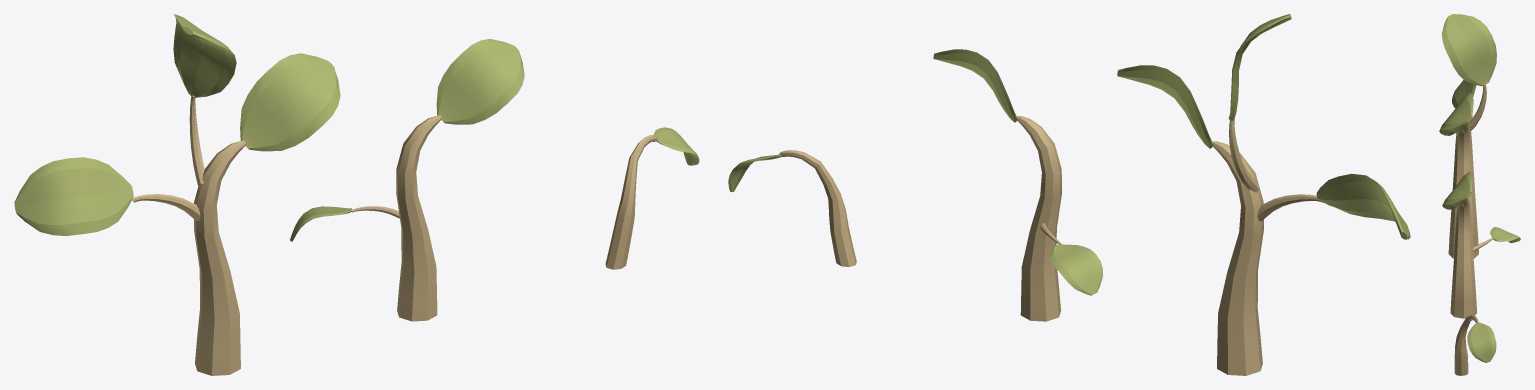
The model's file is atoll_treeSprouts.fbx.
3 renders of one model, left to right at view 1: azimuth 30°, elevation 25°; view 2: azimuth 150°, elevation 25°; view 3: azimuth 270°, elevation 25°, orthographic. The views are drawn at different scales.
Parts seen in each view (by area): view 1: pCylinder5, pCylinder1, pCylinder6, pCylinder11, pCylinder12, pCylinder8, pCylinder9, pCylinder7, pCylinder10, pCylinder3, pCylinder14; view 2: pCylinder1, pCylinder11, pCylinder6, pCylinder9, pCylinder5, pCylinder14, pCylinder12, pCylinder8, pCylinder7, pCylinder3; view 3: pCylinder8, pCylinder11, pCylinder1, pCylinder10, pCylinder5, pCylinder9, pCylinder12, pCylinder6, pCylinder14, pCylinder7, pCylinder13.
Part boxes in pixels (<box>): pCylinder5: <box>240,53,340,151</box>; pCylinder1: <box>194,140,245,375</box>; pCylinder6: <box>14,157,133,235</box>; pCylinder11: <box>396,115,441,321</box>; pCylinder12: <box>436,39,524,124</box>; pCylinder8: <box>173,14,236,97</box>; pCylinder9: <box>605,135,657,269</box>; pCylinder7: <box>189,95,204,190</box>; pCylinder10: <box>653,127,699,165</box>; pCylinder3: <box>131,194,200,220</box>; pCylinder14: <box>290,206,352,241</box>; pCylinder1: <box>1212,141,1263,375</box>; pCylinder11: <box>1016,116,1061,321</box>; pCylinder6: <box>1316,173,1410,239</box>; pCylinder9: <box>779,150,856,266</box>; pCylinder5: <box>1117,65,1213,148</box>; pCylinder14: <box>1049,244,1102,295</box>; pCylinder12: <box>933,49,1017,122</box>; pCylinder8: <box>1228,14,1291,120</box>; pCylinder7: <box>1229,118,1258,192</box>; pCylinder3: <box>1257,194,1323,221</box>; pCylinder8: <box>1441,14,1496,85</box>; pCylinder11: <box>1450,198,1476,318</box>; pCylinder1: <box>1448,122,1478,258</box>; pCylinder10: <box>1467,322,1496,362</box>; pCylinder5: <box>1439,92,1473,135</box>; pCylinder9: <box>1454,314,1478,375</box>; pCylinder12: <box>1442,171,1472,209</box>; pCylinder6: <box>1452,80,1476,108</box>; pCylinder14: <box>1490,227,1520,242</box>; pCylinder7: <box>1468,84,1486,130</box>; pCylinder13: <box>1473,238,1493,251</box>.
Bounding box in the file's own units: 9.11 × 4.6 × 1.49.
